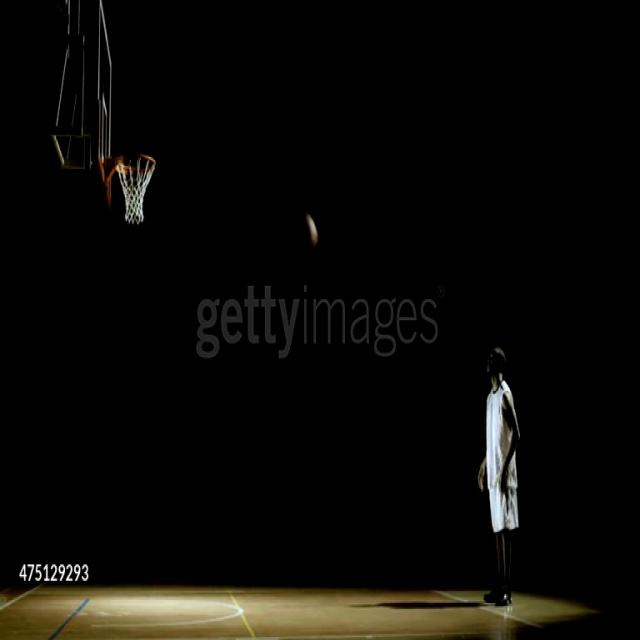ball: (304, 213, 319, 249)
